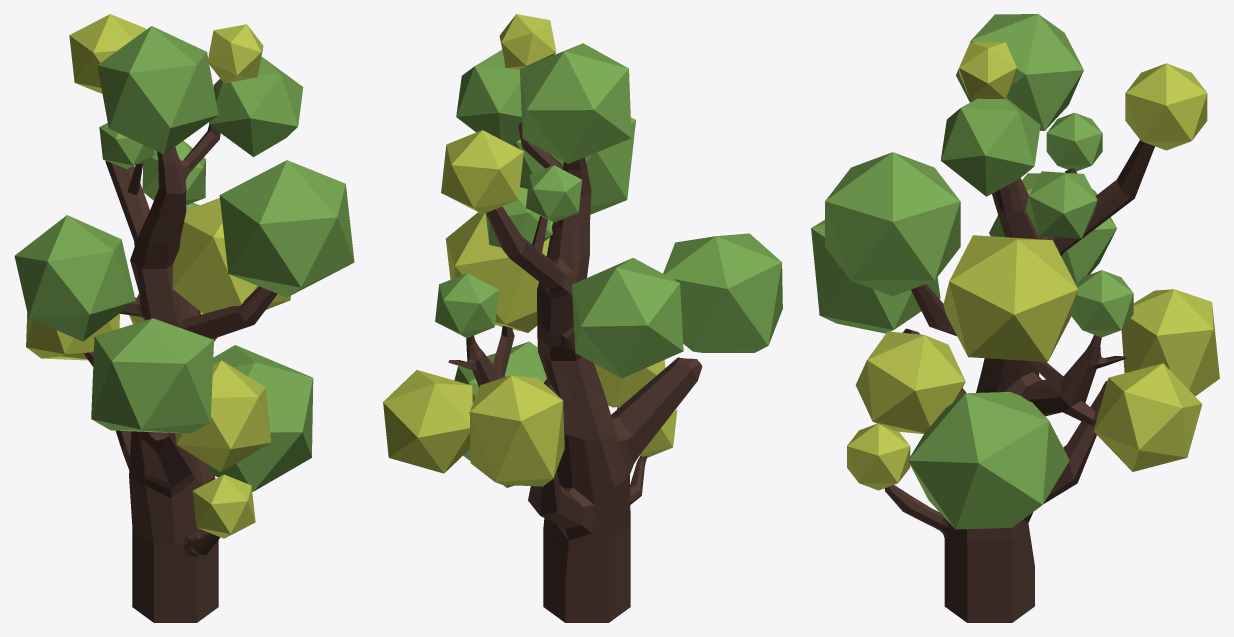
Rendered from New_Tree_3.fbx.
The picture shows the model from 3 angles, left to right: view 1: azimuth 30°, elevation 25°; view 2: azimuth 150°, elevation 25°; view 3: azimuth 270°, elevation 25°; orthographic projection. The views are drawn at different scales.
Parts seen in each view (by area): view 1: Cylinder.006, Icosphere.032, Icosphere.031, Icosphere.040, Icosphere.034, Icosphere.033, Icosphere.036, Icosphere.041, Icosphere.037, Icosphere.035, Icosphere.039, Icosphere.043 (+3 smaller); view 2: Cylinder.006, Icosphere.031, Icosphere.040, Icosphere.034, Icosphere.030, Icosphere.029, Icosphere.037, Icosphere.039, Icosphere.041, Icosphere.032, Icosphere.028, Icosphere.038 (+5 smaller); view 3: Cylinder.006, Icosphere.033, Icosphere.032, Icosphere.037, Icosphere.029, Icosphere.036, Icosphere.030, Icosphere.041, Icosphere.040, Icosphere.039, Icosphere.031, Icosphere.042 (+5 smaller).
Boxes of the visible parts, x1,y1,x2,y2 form: Cylinder.006: [84, 125, 277, 622]; Icosphere.032: [219, 160, 354, 297]; Icosphere.031: [91, 318, 213, 433]; Icosphere.040: [97, 26, 218, 154]; Icosphere.034: [14, 215, 135, 341]; Icosphere.033: [205, 345, 313, 491]; Icosphere.036: [175, 360, 271, 472]; Icosphere.041: [209, 56, 303, 156]; Icosphere.037: [172, 197, 290, 313]; Icosphere.035: [192, 474, 255, 538]; Icosphere.039: [69, 14, 145, 93]; Icosphere.043: [207, 24, 263, 83]; Cylinder.006: [448, 122, 702, 622]; Icosphere.031: [663, 233, 782, 352]; Icosphere.040: [520, 43, 631, 163]; Icosphere.034: [572, 258, 683, 378]; Icosphere.030: [469, 375, 564, 486]; Icosphere.029: [383, 370, 473, 473]; Icosphere.037: [445, 212, 552, 332]; Icosphere.039: [441, 130, 523, 214]; Icosphere.041: [456, 50, 521, 144]; Icosphere.032: [512, 117, 635, 214]; Icosphere.028: [435, 273, 498, 338]; Icosphere.038: [526, 165, 582, 222]; Cylinder.006: [884, 140, 1154, 622]; Icosphere.033: [908, 392, 1069, 529]; Icosphere.032: [825, 152, 960, 296]; Icosphere.037: [943, 235, 1078, 361]; Icosphere.029: [1093, 363, 1202, 471]; Icosphere.036: [855, 331, 965, 433]; Icosphere.030: [1121, 289, 1219, 396]; Icosphere.041: [940, 98, 1040, 196]; Icosphere.040: [956, 14, 1083, 130]; Icosphere.039: [1125, 63, 1207, 150]; Icosphere.031: [811, 220, 940, 333]; Icosphere.042: [1025, 171, 1097, 238].
Bounding box in the file's own units: 381 × 782 × 488.
